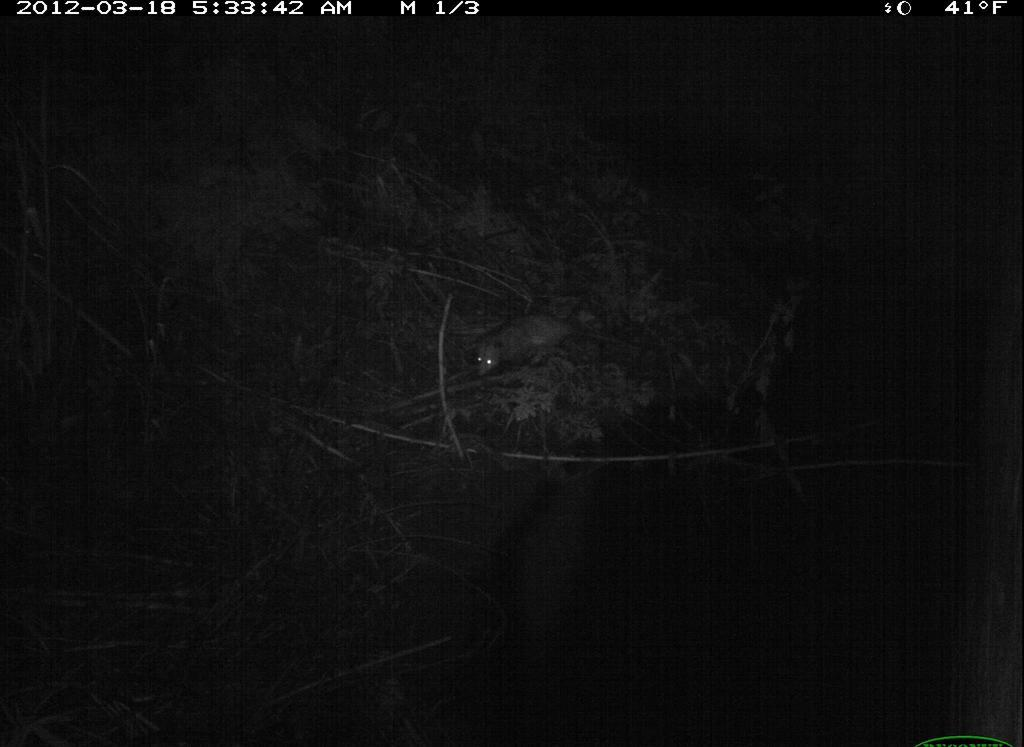opossum: (465, 306, 621, 381)
